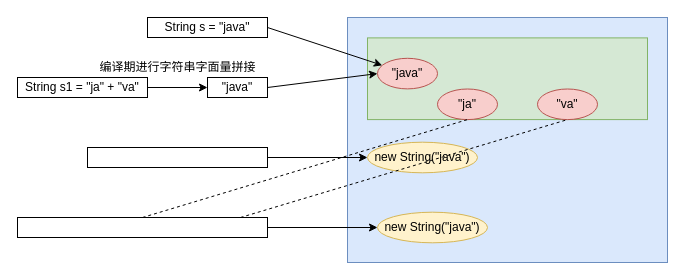
This 685x280 diagram has some shape labels left out. The box of each missing label's shape, as (x1, y1, x2, y2) in pixels:
Java 堆: (346, 16, 668, 262)
String s2 = new String（"java"): (86, 146, 268, 168)
String s3 = new String("ja") + new String("va"): (16, 216, 268, 238)
字符串常量池: (366, 37, 648, 120)
